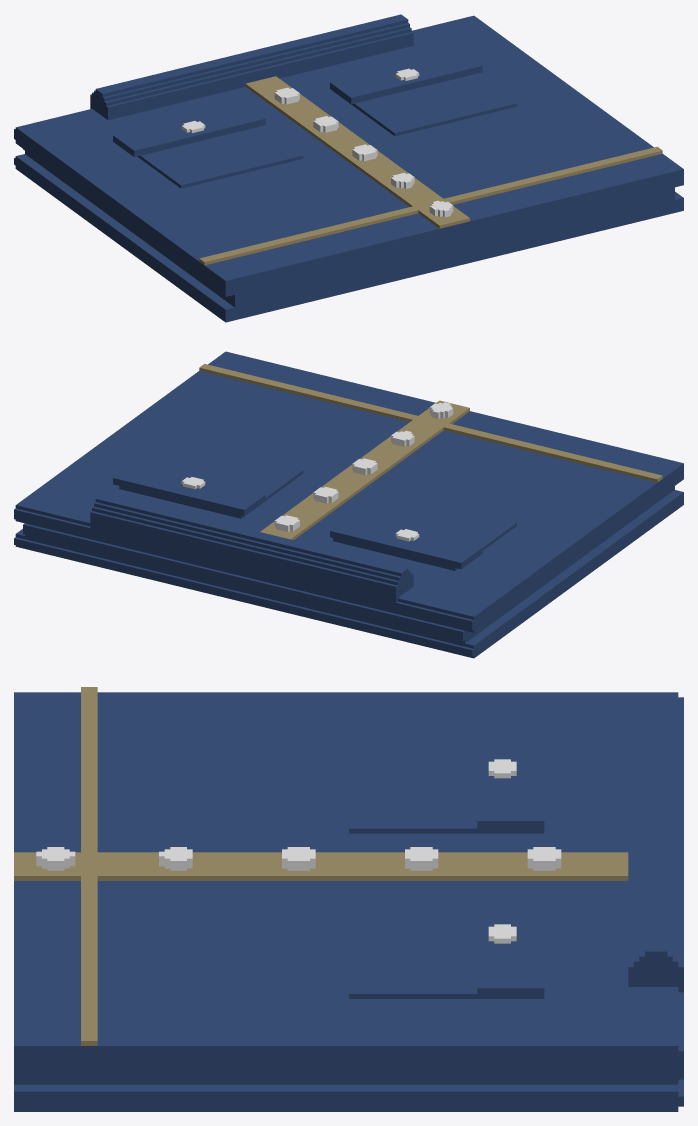
File: vest_jean.glb
3 renders of one model, top to bottom at view 1: azimuth 30°, elevation 25°; view 2: azimuth 150°, elevation 25°; view 3: azimuth 270°, elevation 25°, orthographic. The views are drawn at different scales.
Visible parts, largest first — view 1: vest_jean:compound; view 2: vest_jean:compound; view 3: vest_jean:compound.
Part boxes in pixels (x1,y1,x2,y2): vest_jean:compound: (14,14,683,322); vest_jean:compound: (14,351,683,658); vest_jean:compound: (14,687,683,1111).
Size of the model in its own units: 0.3 by 0.04 by 0.24.
